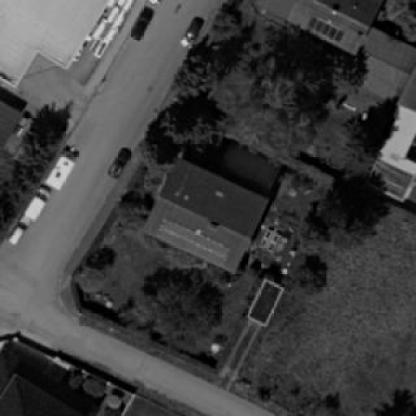solar-pv-panel: (155, 219, 230, 266), (306, 15, 347, 43)
